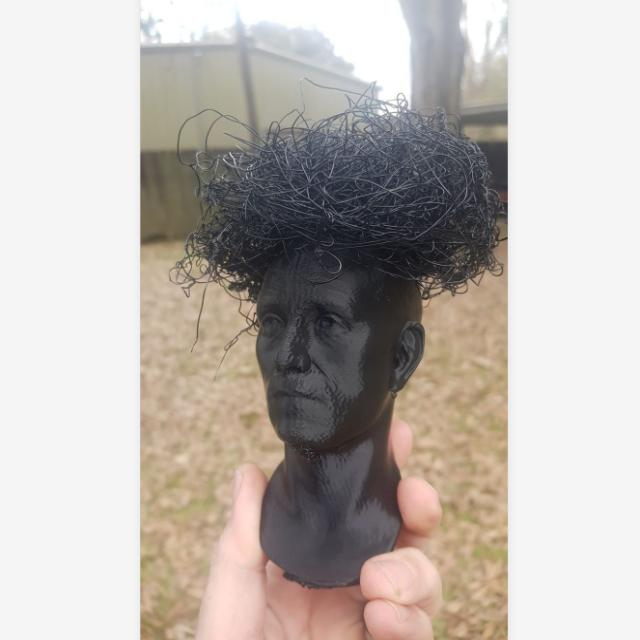Spaghetti: (168, 77, 504, 288)
